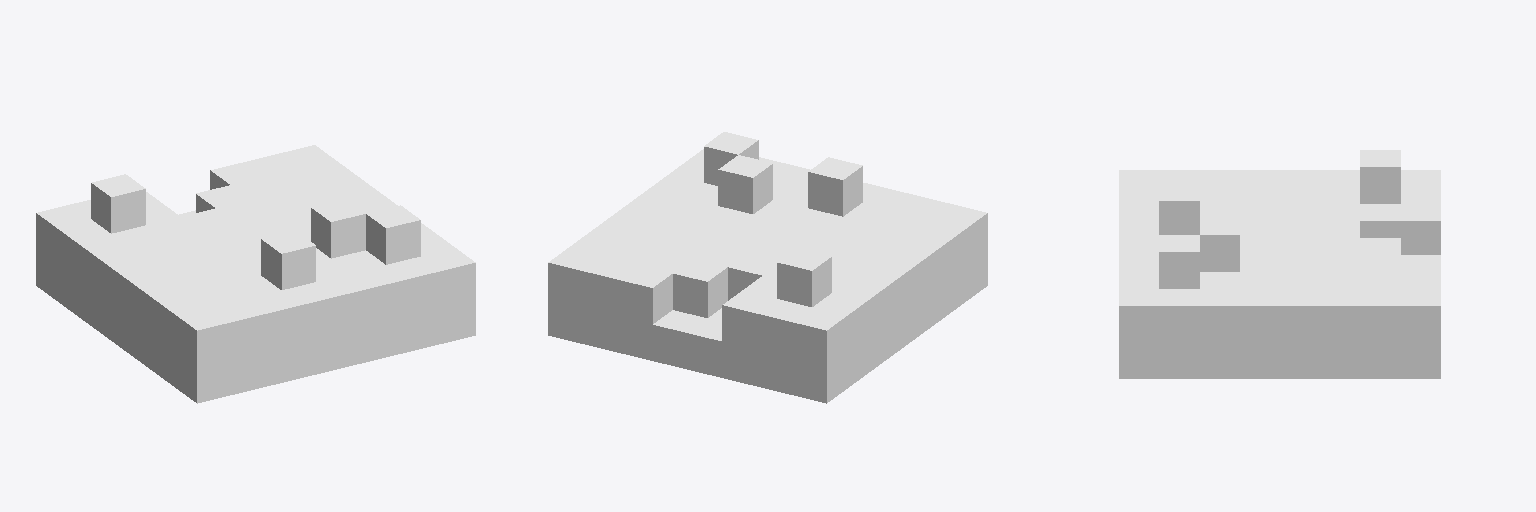
Rendered from GreenCorall13.obj.
3 renders of one model, left to right at view 1: azimuth 30°, elevation 25°; view 2: azimuth 150°, elevation 25°; view 3: azimuth 270°, elevation 25°, orthographic.
Visible parts, largest first — view 1: object 1; view 2: object 1; view 3: object 1.
Boxes of the visible parts, x1,y1,x2,y2 form: object 1: [36, 145, 475, 403]; object 1: [548, 132, 987, 403]; object 1: [1119, 150, 1440, 378].
Bounding box in the file's own units: 0.8 × 0.3 × 0.8.